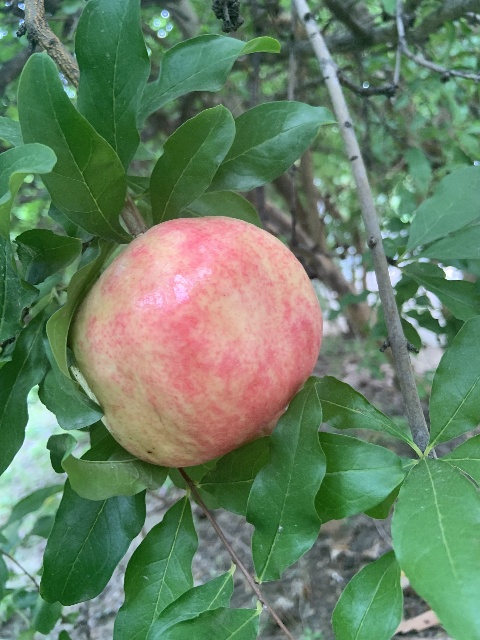ripe: (73, 216, 323, 467)
